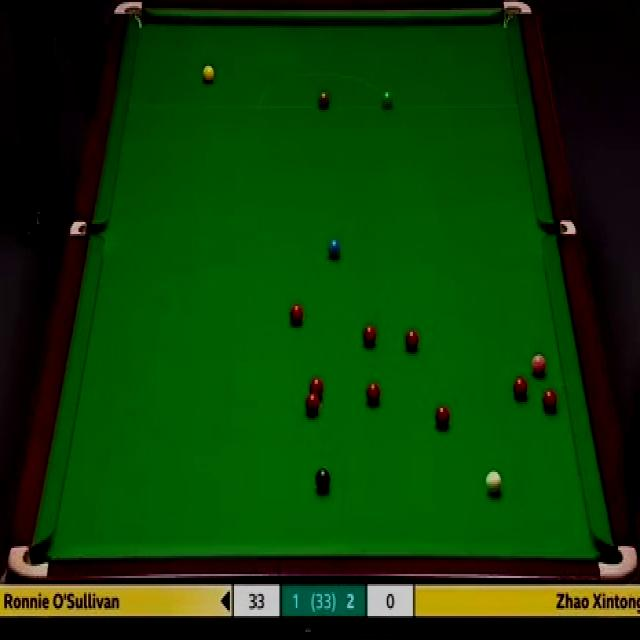black-ball: (314, 467, 331, 492)
blue-ball: (328, 239, 341, 261)
brown-ball: (318, 93, 330, 110)
green-ball: (382, 90, 393, 110)
pink-ball: (531, 353, 548, 378)
red-ball: (433, 405, 451, 430), (541, 387, 558, 413), (405, 327, 420, 352), (367, 382, 381, 407), (362, 325, 376, 349), (304, 393, 320, 413), (513, 378, 528, 399), (309, 377, 324, 398), (290, 302, 304, 324)
white-ball: (484, 469, 502, 497)
yellow-ball: (202, 66, 216, 86)
